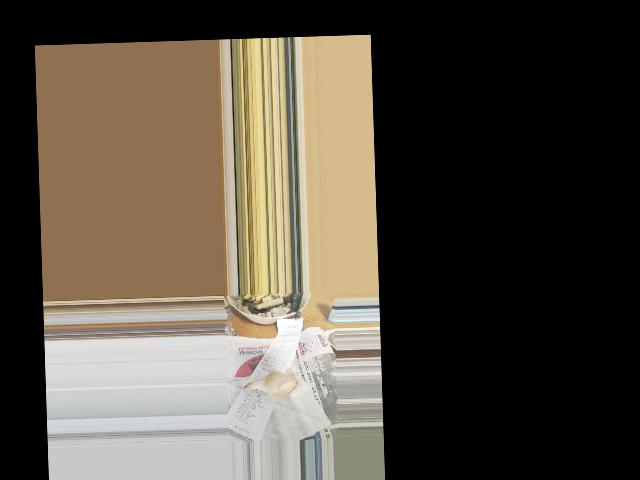onion: (249, 368, 298, 399)
